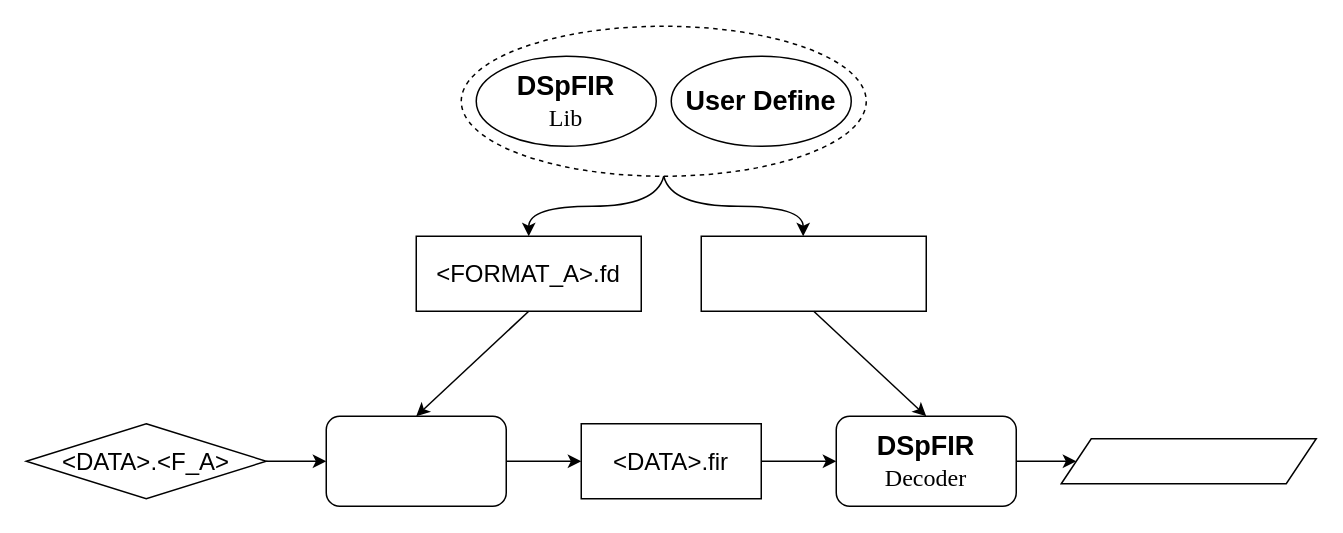
This 1343x533 diagram has some shape labels left out. The centre of each missing label's shape, as x and y in pixels:
"<DATA>.<F_B>" belongs at pixel 1188 460.
"<FORMAT_B>.fd" belongs at pixel 813 273.
"DSpFIR Encoder" belongs at pixel 415 460.
